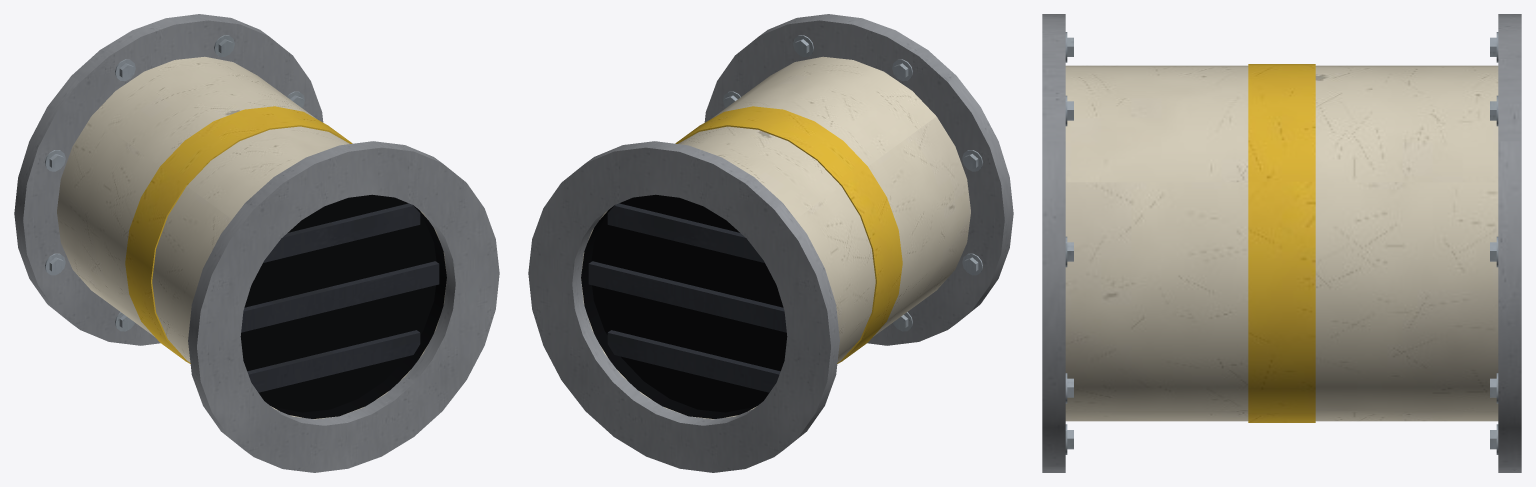
Rendered from large_pipe_short.glb.
3 views of the same model, side by side, from view 1: azimuth 30°, elevation 25°; view 2: azimuth 150°, elevation 25°; view 3: azimuth 270°, elevation 25° (orthographic). The views are drawn at different scales.
Visible parts, largest first — view 1: Body; view 2: Body; view 3: Body.
Boxes of the visible parts, x1,y1,x2,y2 form: Body: [14, 14, 499, 472]; Body: [528, 14, 1013, 472]; Body: [1042, 14, 1521, 472].
Size of the model in its own units: 0.476 by 0.476 by 0.497.
Materials: 6 (5 with a texture image).
